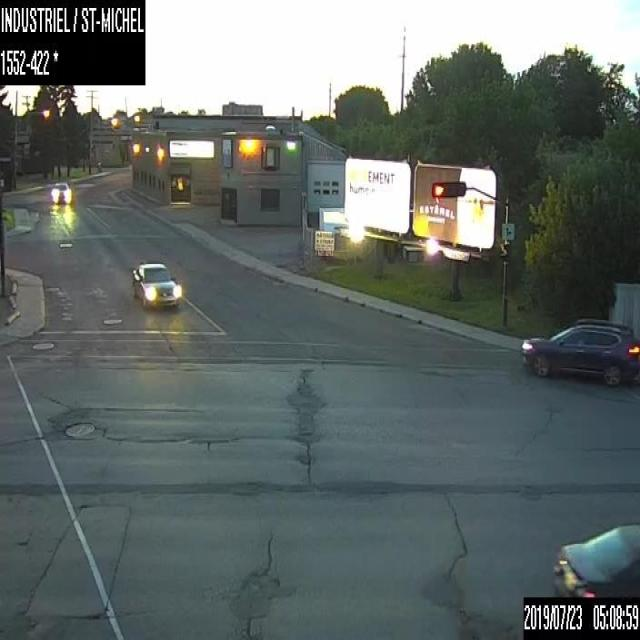vehicle: (519, 318, 639, 385), (551, 521, 639, 596), (131, 260, 181, 309), (49, 180, 71, 203)
